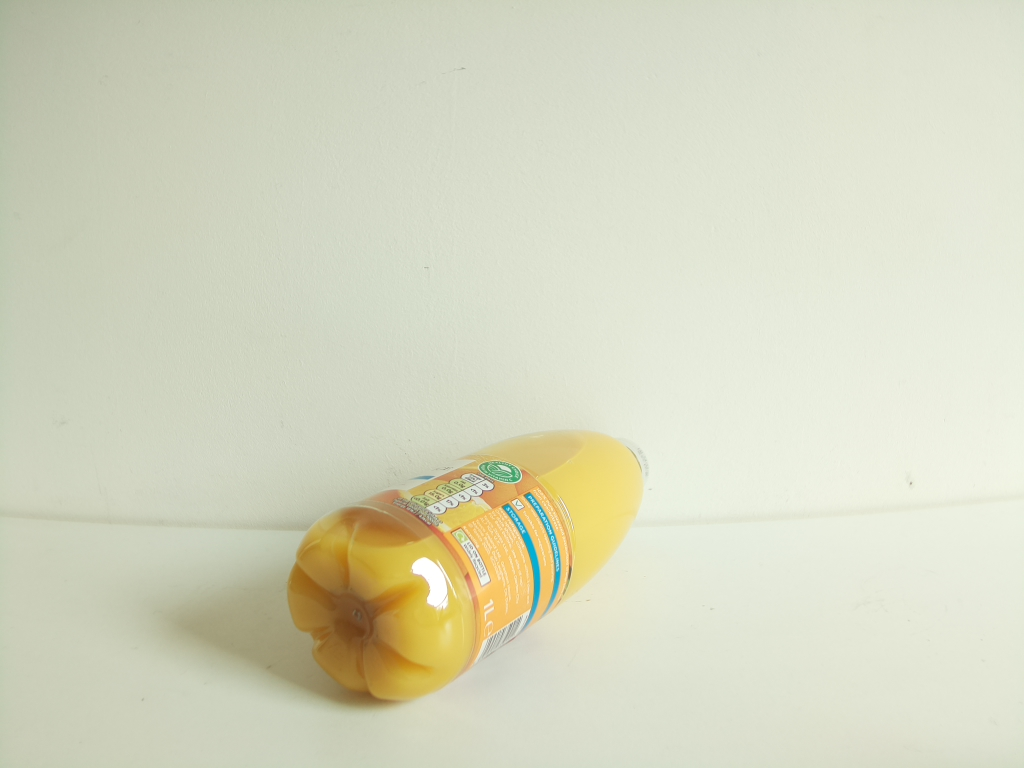juice: (282, 428, 649, 710)
